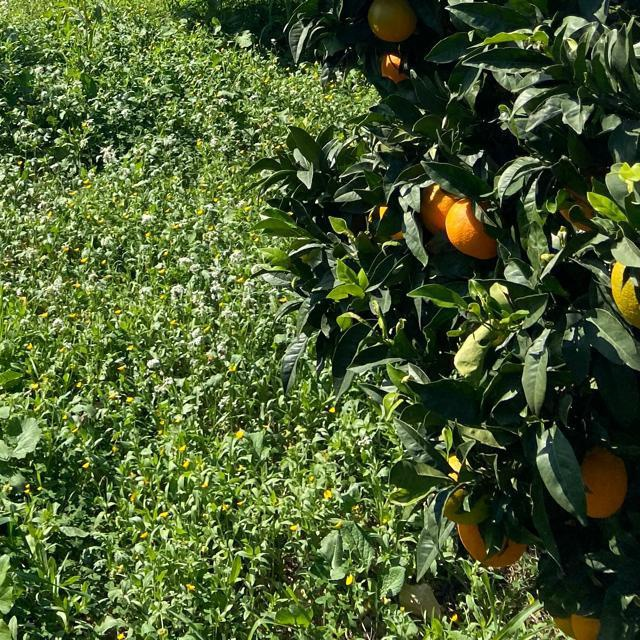orange: (538, 433, 632, 529), (449, 484, 529, 566), (437, 196, 511, 262), (370, 190, 424, 244), (415, 182, 465, 236), (554, 175, 604, 229), (607, 247, 639, 325), (366, 0, 418, 42), (553, 599, 605, 639), (373, 53, 417, 85), (209, 0, 227, 2)
